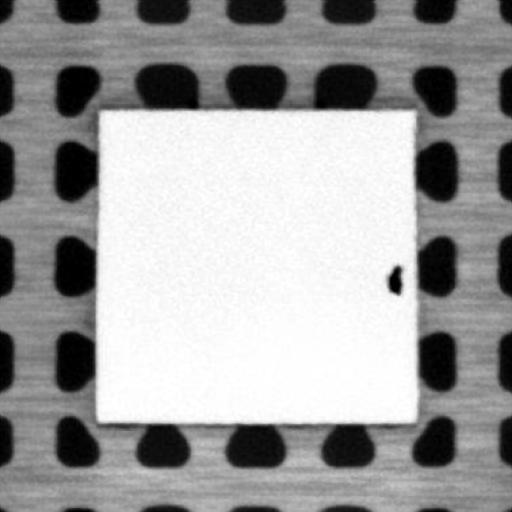DIE_INK: (385, 262, 401, 295)
